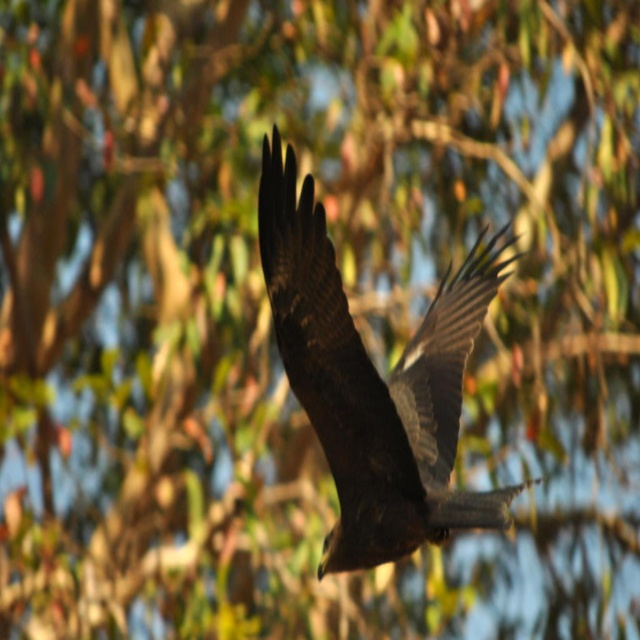Eagle: (260, 119, 547, 587)
